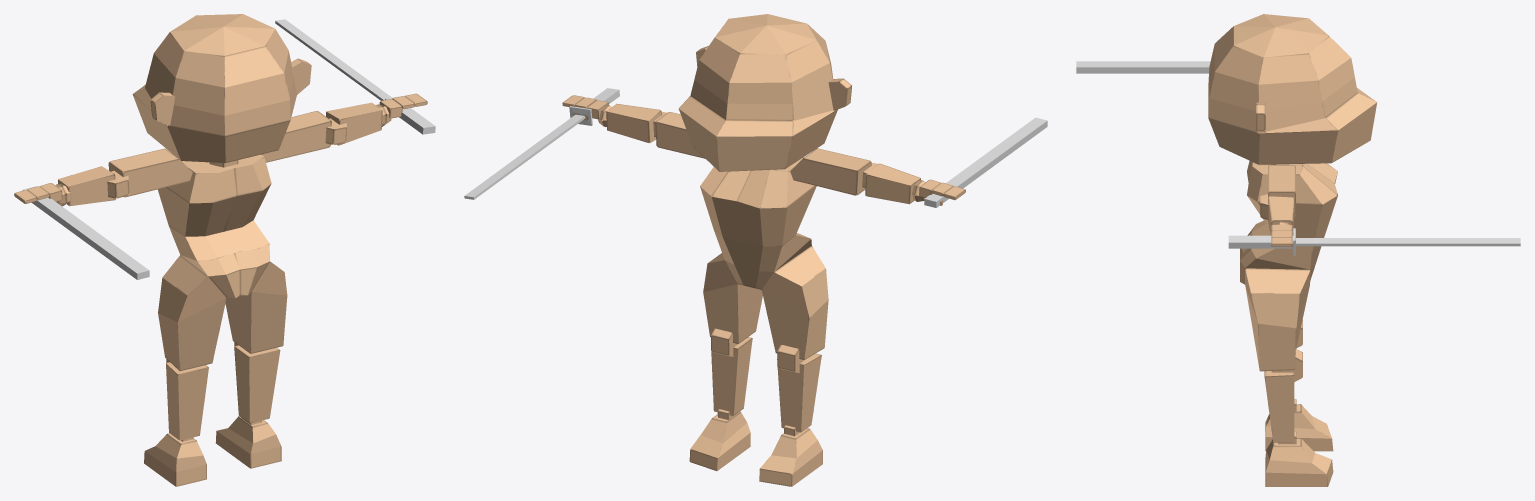
Rendered from MainCharacter.fbx.
The picture shows the model from 3 angles, left to right: view 1: azimuth 30°, elevation 25°; view 2: azimuth 150°, elevation 25°; view 3: azimuth 270°, elevation 25°; orthographic projection. The views are drawn at different scales.
Parts seen in each view (by area): view 1: sphere, cuboid, cuboid_2, cuboid_1, cuboid_12, cuboid_13, cuboid_3, cuboid_5, cuboid_4, cuboid_14, scabbard, cuboid_15 (+6 smaller); view 2: sphere, cuboid, cuboid_2, cuboid_12, cuboid_1, cuboid_5, cuboid_4, cuboid_3, cuboid_14, cuboid_13, scabbard, katana (+3 smaller); view 3: sphere, cuboid_12, cuboid, katana, cuboid_14, cuboid_1, cuboid_13, scabbard, cuboid_4, cuboid_15, cuboid_16.
Boxes of the visible parts, x1,y1,x2,y2 form: sphere: (132,14,296,162); cuboid: (157,154,271,236); cuboid_2: (158,255,226,371); cuboid_1: (169,220,269,298); cuboid_12: (225,261,287,353); cuboid_13: (234,345,280,423); cuboid_3: (166,362,208,440); cuboid_5: (108,148,192,197); cuboid_4: (144,433,206,486); cuboid_14: (215,416,281,468); scabbard: (22,186,149,279); cuboid_15: (261,111,331,162); sphere: (678,14,837,171); cuboid: (700,157,816,246); cuboid_2: (762,246,828,359); cuboid_12: (703,253,762,343); cuboid_1: (714,230,811,289); cuboid_5: (790,148,871,195); cuboid_4: (759,428,822,486); cuboid_3: (777,353,821,432); cuboid_14: (689,411,750,470); cuboid_13: (711,337,752,415); scabbard: (924,117,1047,207); katana: (464,88,619,199); sphere: (1208,14,1377,164); cuboid_12: (1245,268,1310,371); cuboid: (1247,160,1337,237); katana: (1228,228,1520,255); cuboid_14: (1265,438,1333,486); cuboid_1: (1240,220,1321,284); cuboid_13: (1264,371,1294,442); scabbard: (1076,61,1210,73); cuboid_4: (1265,404,1333,451); cuboid_15: (1268,165,1295,216); cuboid_16: (1268,196,1294,235).
Bounding box in the file's own units: 407 × 427 × 396.
Materials: 1 (1 with a texture image).
